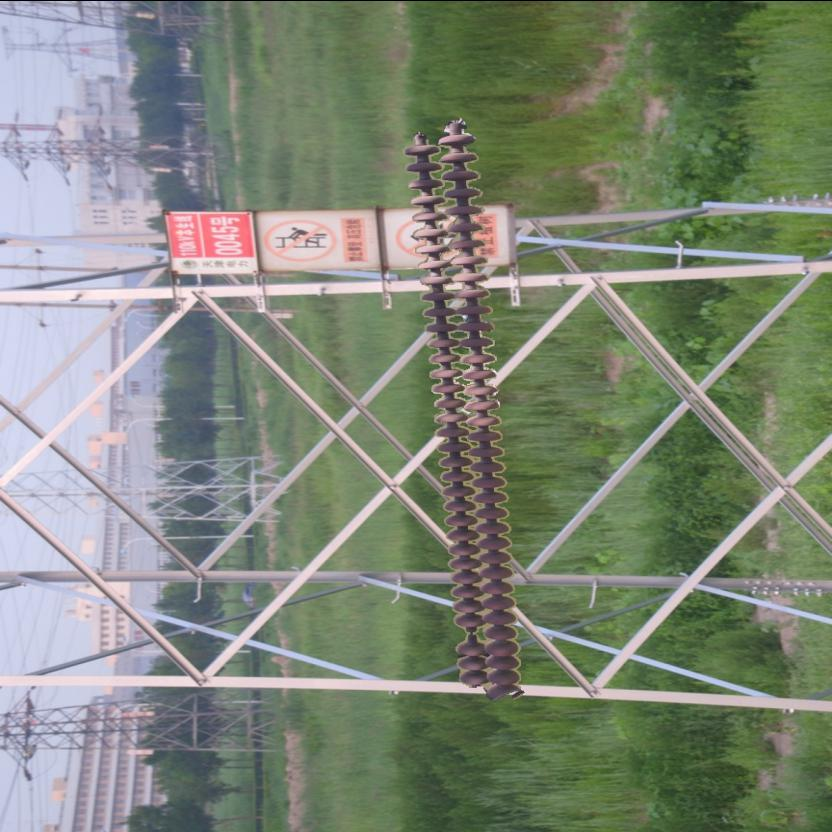defect: (454, 613, 486, 658)
